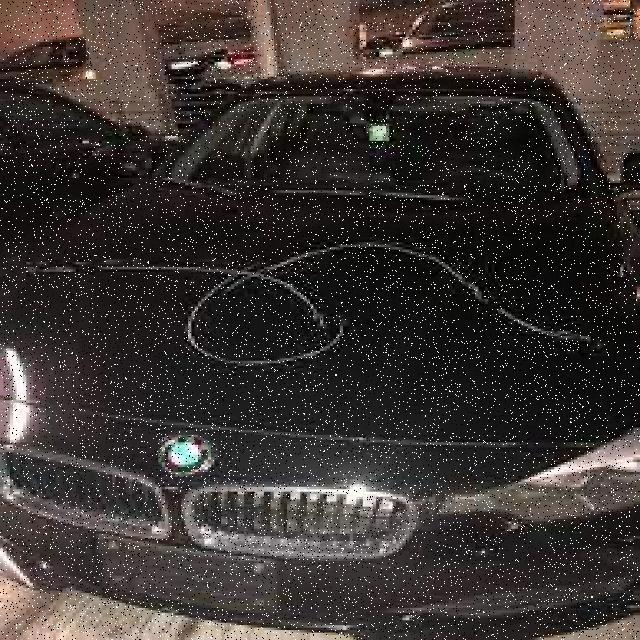bonnet-dent: (10, 198, 637, 490)
